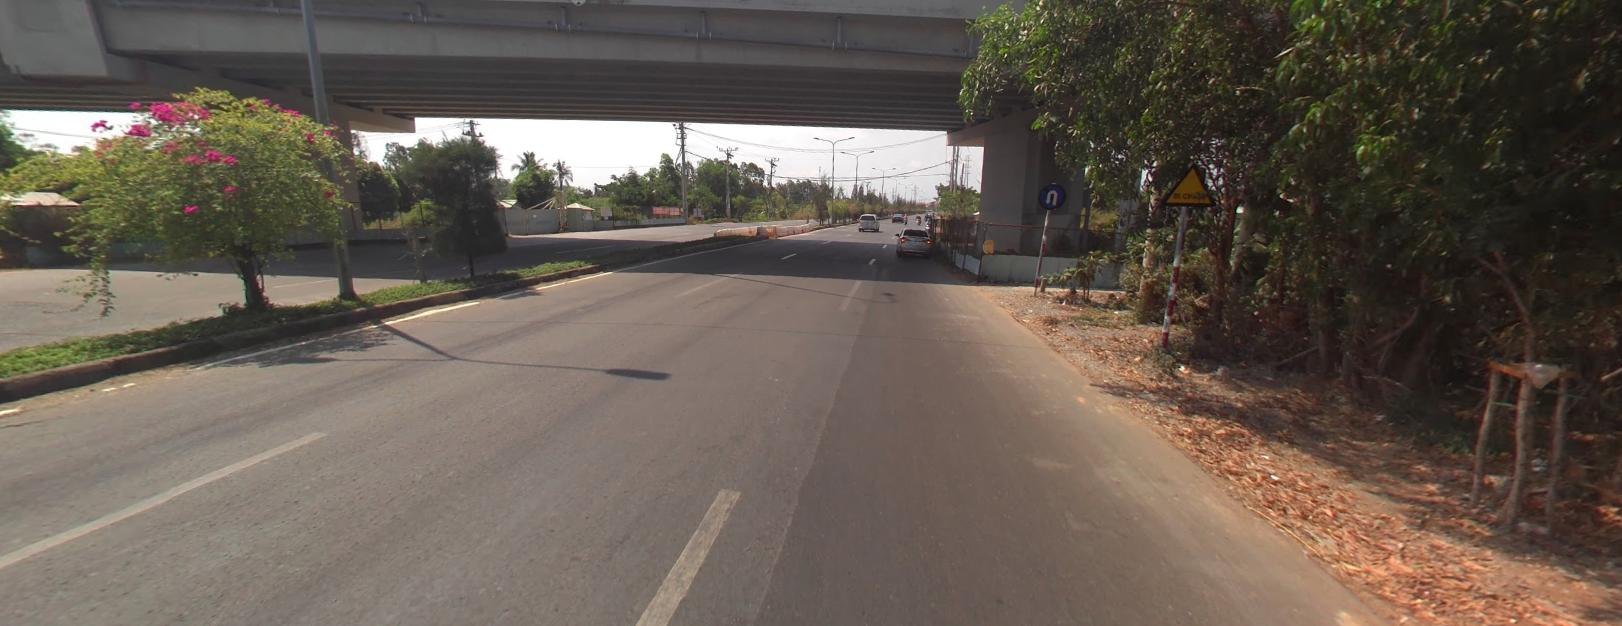Cam re: (1039, 183, 1064, 208)
Nguy hiem: (1162, 162, 1215, 204)
